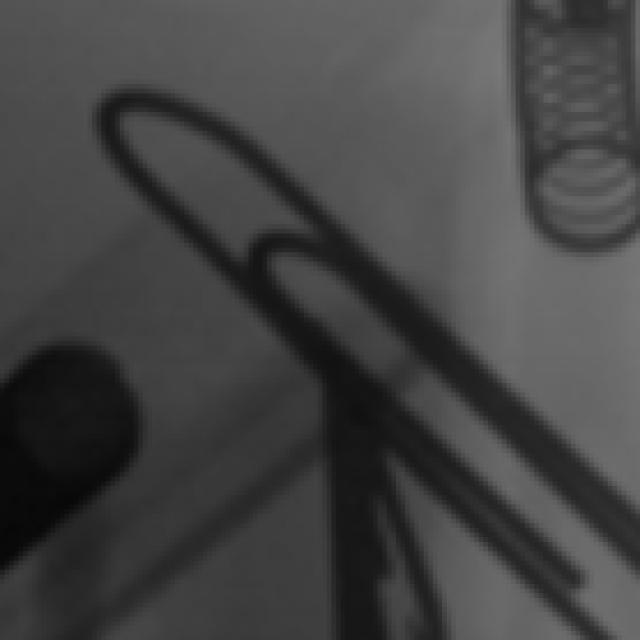GUN: (242, 343, 480, 636)
